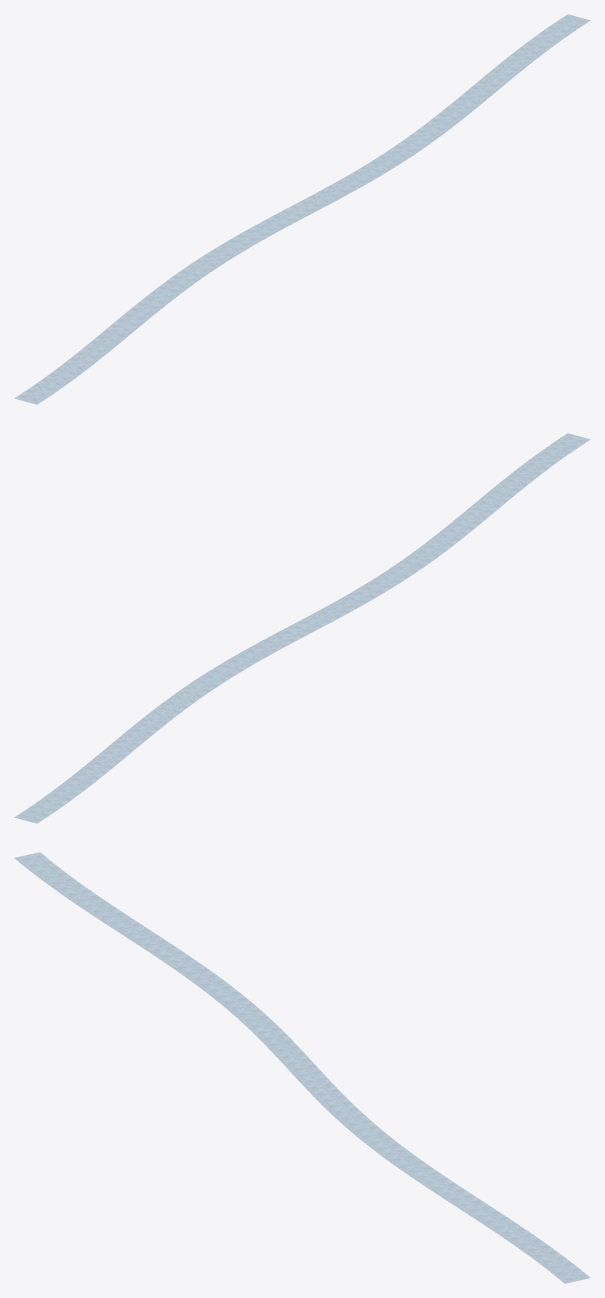
File: taipale-ice.obj
The picture shows the model from 3 angles, top to bottom: view 1: azimuth 30°, elevation 25°; view 2: azimuth 210°, elevation 25°; view 3: azimuth 270°, elevation 25°; orthographic projection. The views are drawn at different scales.
Visible parts, largest first — view 1: Taipale_Frozen_River; view 2: Taipale_Frozen_River; view 3: Taipale_Frozen_River.
Part boxes in pixels (x1,y1,x2,y2): Taipale_Frozen_River: (14, 14, 590, 404); Taipale_Frozen_River: (14, 433, 590, 823); Taipale_Frozen_River: (14, 852, 590, 1283).
Size of the model in its own units: 4151 by 0 by 2345.
1 material, 1 textured.
